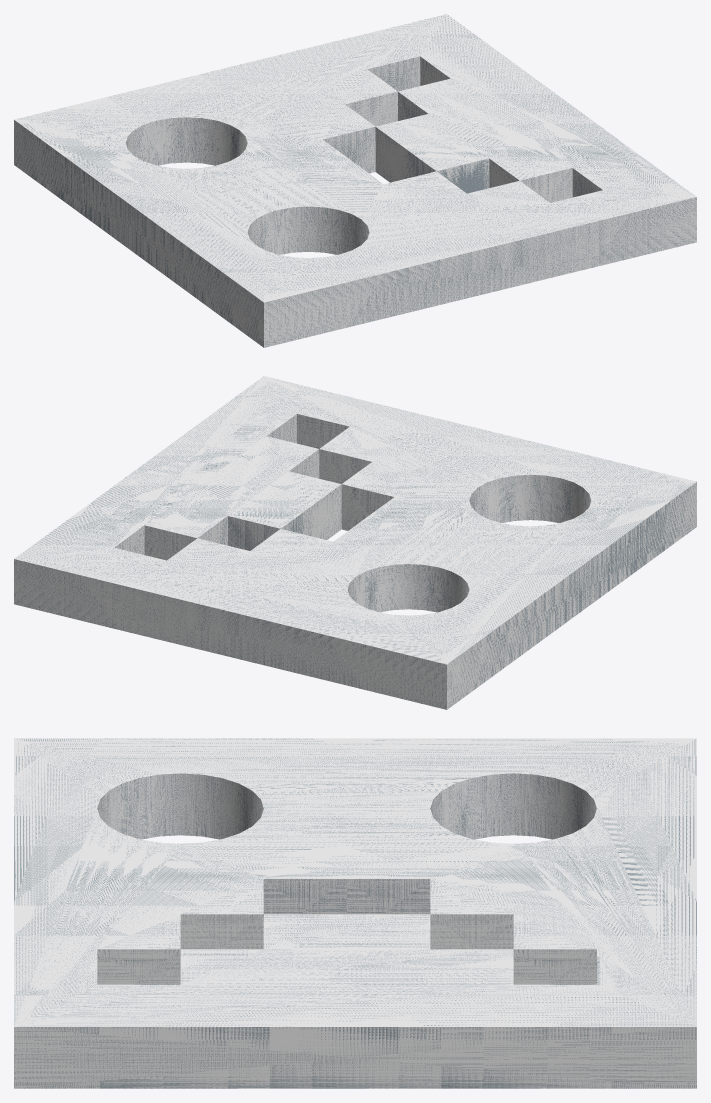
3 views of the same model, one above another, from view 1: azimuth 30°, elevation 25°; view 2: azimuth 150°, elevation 25°; view 3: azimuth 270°, elevation 25° (orthographic). The views are drawn at different scales.
Parts seen in each view (by area): view 1: Model; view 2: Model; view 3: Model.
Part boxes in pixels (x1=…): Model: x1=14, y1=14, x2=696, y2=347; Model: x1=14, y1=376, x2=696, y2=709; Model: x1=14, y1=738, x2=696, y2=1088.
Bounding box in the file's own units: 5 × 0.5 × 5.
